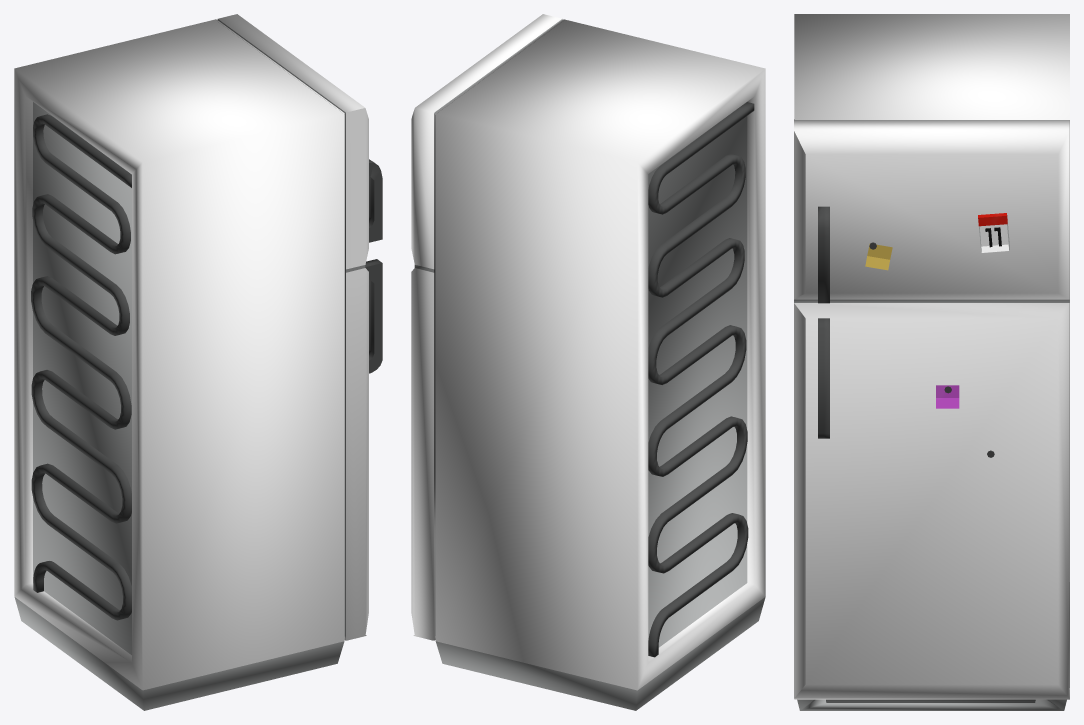
Rendered from fridge_animated.glb.
3 views of the same model, side by side, from view 1: azimuth 30°, elevation 25°; view 2: azimuth 150°, elevation 25°; view 3: azimuth 270°, elevation 25° (orthographic). The views are drawn at different scales.
Parts seen in each view (by area): view 1: House Props : Fridge, House Props : Fridge.001; view 2: House Props : Fridge, House Props : Fridge.001; view 3: House Props : Fridge.001, House Props : Fridge.
Boxes of the visible parts, x1,y1,x2,y2 form: House Props : Fridge: [14, 19, 366, 710]; House Props : Fridge.001: [217, 14, 382, 640]; House Props : Fridge: [413, 19, 765, 710]; House Props : Fridge.001: [411, 14, 562, 640]; House Props : Fridge.001: [794, 119, 1069, 698]; House Props : Fridge: [794, 14, 1069, 710].
Bounding box in the file's own units: 1.7 × 3.57 × 1.51.
Materials: 1 (1 with a texture image).
